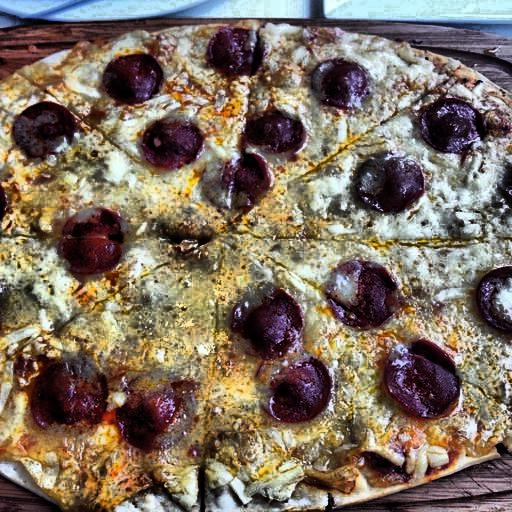pizza: (2, 14, 510, 512)
